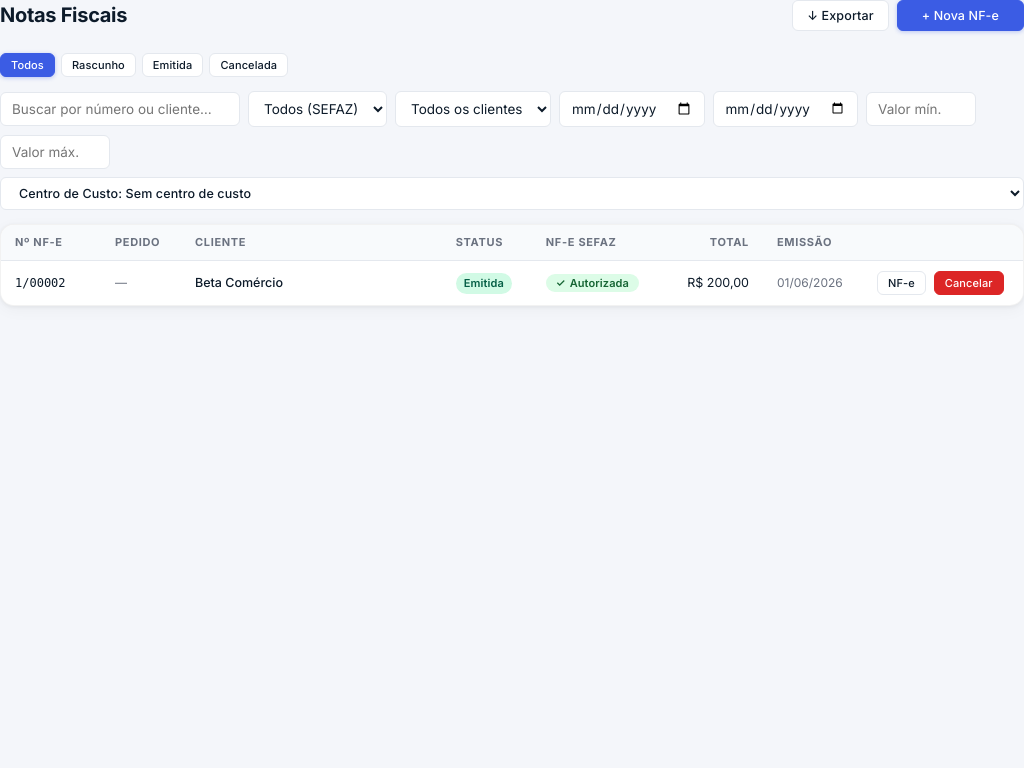
InvoicesPage — cancelamento junto à SEFAZ e Carta de Correção (regra 0089) › nota autorizada: botão "Cancelar" na linha abre o painel com o formulário de justificativa pronto
Expected: the text "Beta Comércio" is shown, [181,260,442,305]
Click the button "Cancelar".
click(969, 283)  # box [934,271,1004,295]
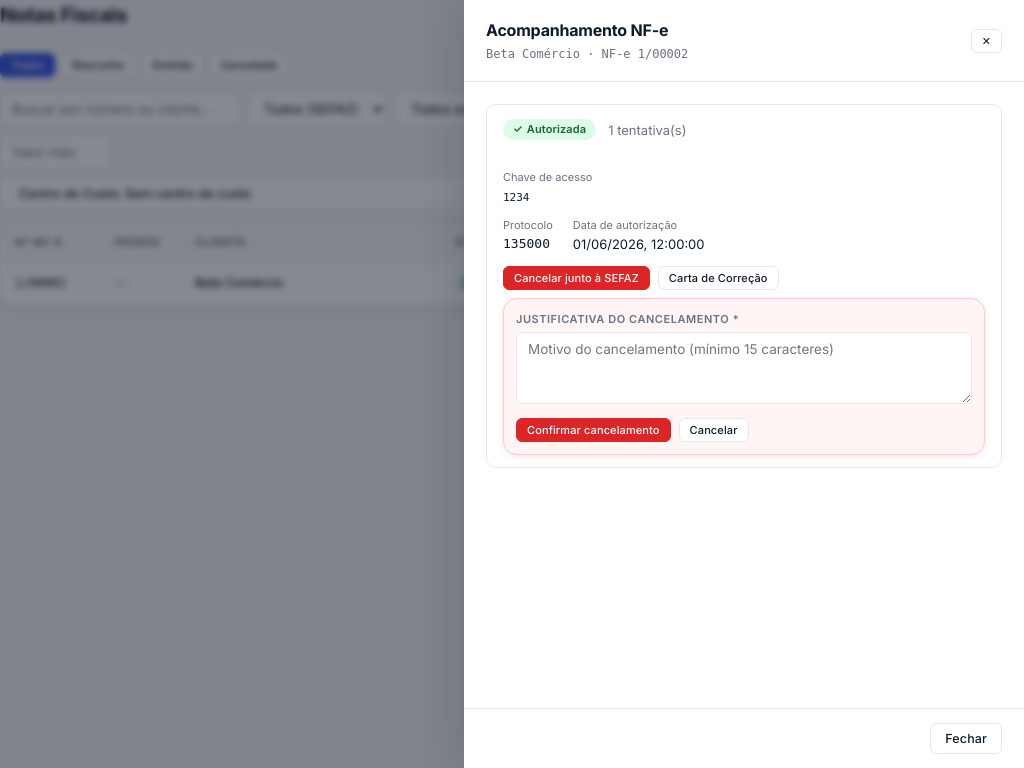
Result: the text box with placeholder "Motivo do cancelamento (mínimo 15 caracteres)" is shown at [516,332,972,404]
